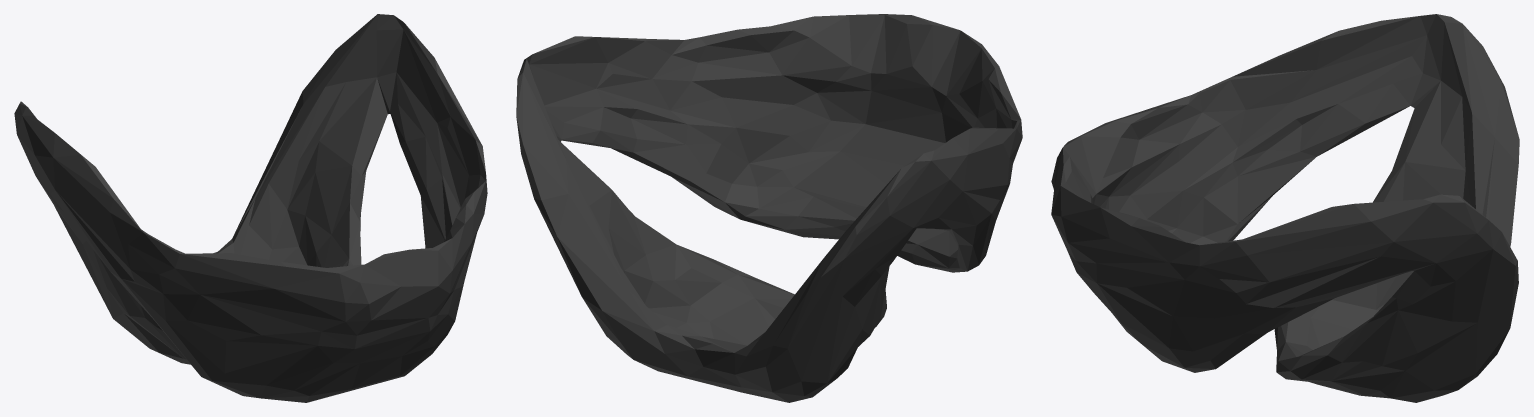
File: m_orbicularis_oris.glb
3 views of the same model, side by side, from view 1: azimuth 30°, elevation 25°; view 2: azimuth 150°, elevation 25°; view 3: azimuth 270°, elevation 25° (orthographic). The views are drawn at different scales.
Visible parts, largest first — view 1: m_orbicularis_oris; view 2: m_orbicularis_oris; view 3: m_orbicularis_oris.
Part boxes in pixels (box(x1,y1,x2,y2)): m_orbicularis_oris: box(14, 14, 487, 402); m_orbicularis_oris: box(516, 14, 1022, 402); m_orbicularis_oris: box(1051, 14, 1519, 402).
Bounding box in the file's own units: 0.00165 × 0.00111 × 0.00173.
1 material, 1 textured.
